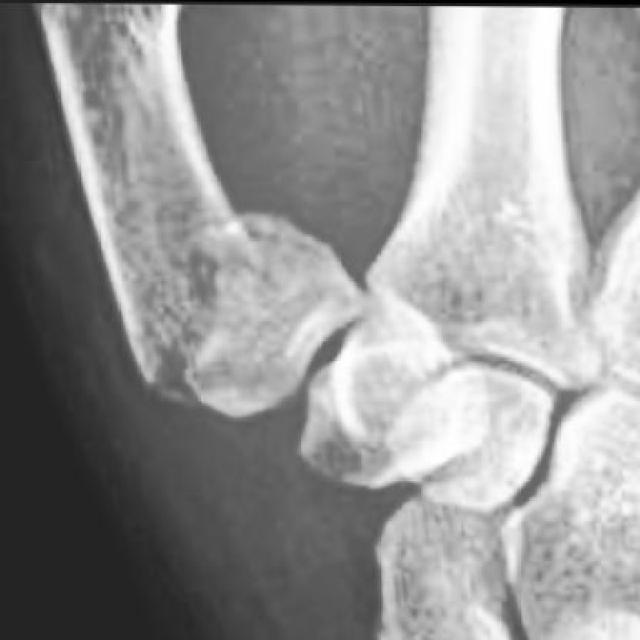Fracture: (123, 197, 322, 423)
